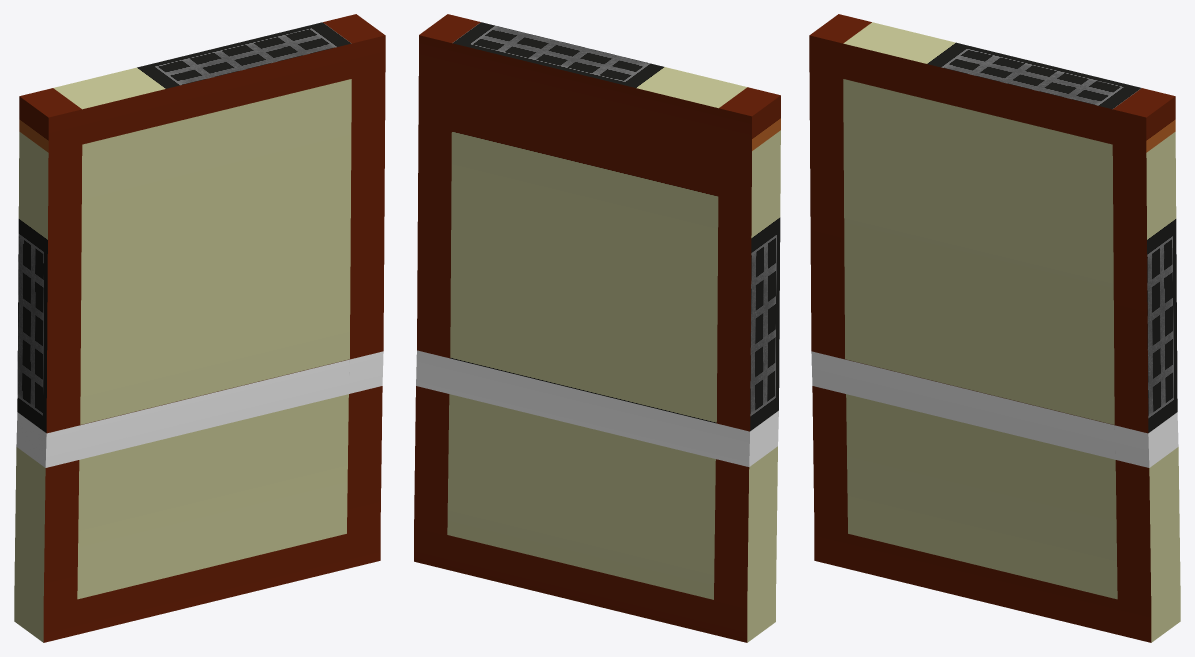
The model's file is Wall_2x3.fbx.
3 views of the same model, side by side, from view 1: azimuth 30°, elevation 25°; view 2: azimuth 150°, elevation 25°; view 3: azimuth 330°, elevation 25° (orthographic).
Visible parts, largest first — view 1: Wall_2x3; view 2: Wall_2x3; view 3: Wall_2x3.
Part boxes in pixels (box(x1,y1,x2,y2)): Wall_2x3: box(14, 14, 385, 642); Wall_2x3: box(414, 14, 780, 642); Wall_2x3: box(809, 14, 1180, 642).
Size of the model in its own units: 200 by 300 by 35.
